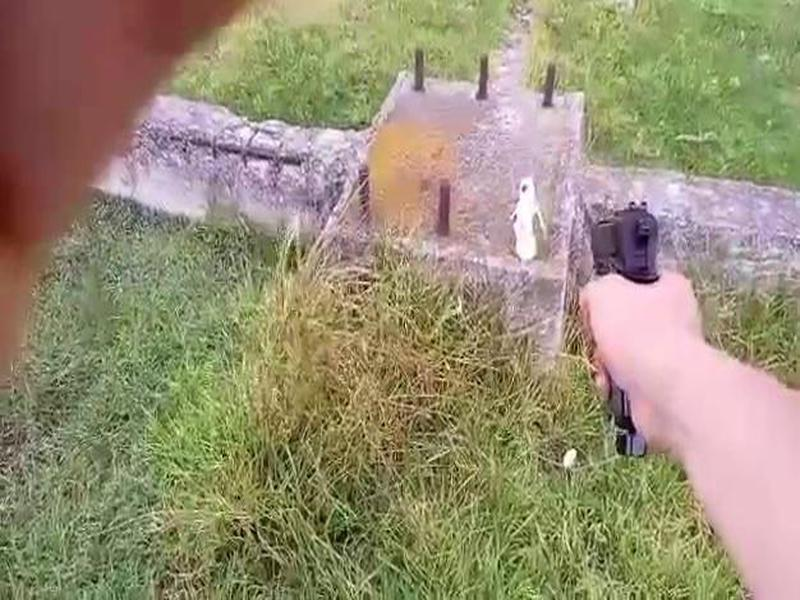Pistola: (576, 189, 701, 408)
